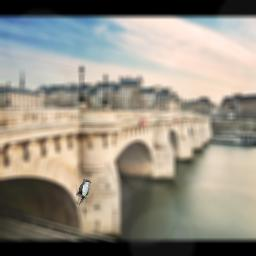Cuckoo: (76, 179, 91, 219)
